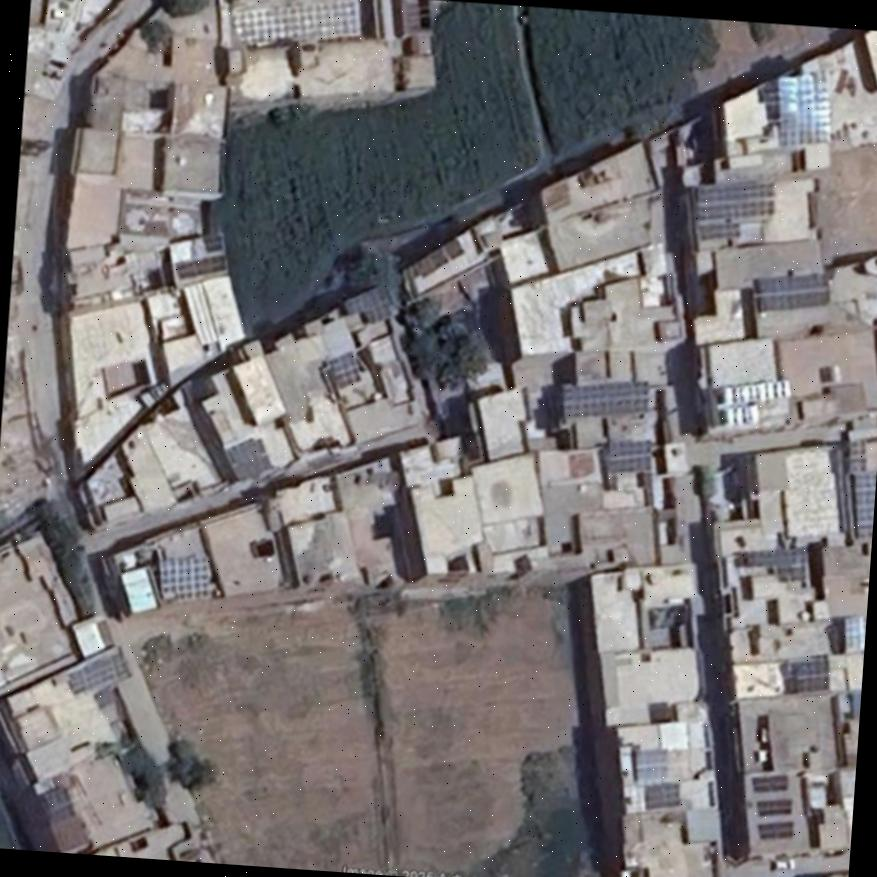Solarpanel: (692, 181, 777, 238), (776, 71, 833, 142), (560, 380, 647, 416), (756, 274, 828, 308), (344, 282, 389, 329), (159, 555, 208, 598), (853, 468, 875, 536), (604, 439, 649, 470), (743, 548, 803, 569), (176, 252, 222, 278), (326, 351, 358, 386), (795, 658, 825, 690), (842, 610, 865, 650), (757, 798, 791, 814), (756, 822, 792, 836), (749, 775, 787, 788)
